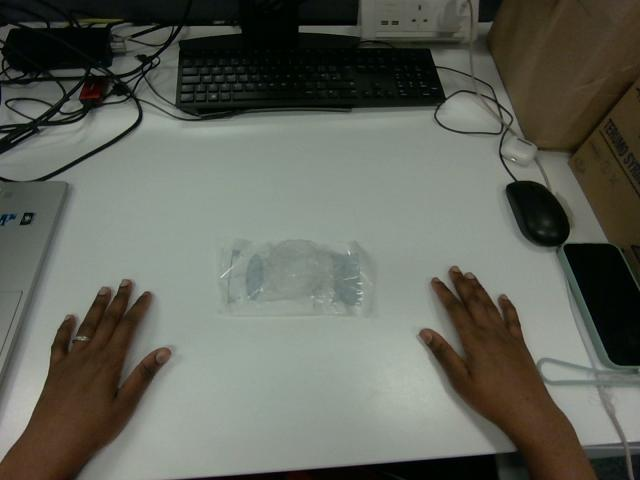gallipot: (220, 239, 372, 316)
